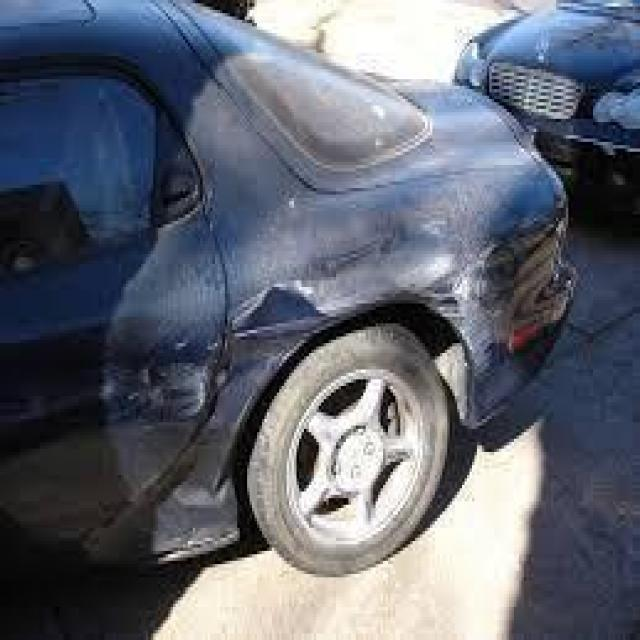damaged: (99, 268, 324, 534), (400, 201, 504, 376)
